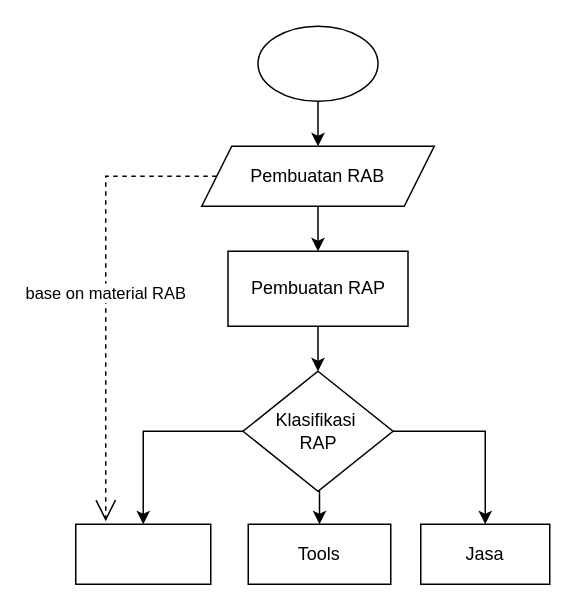
Some shapes in this 576 by 611 pixel diagram are drawn without their labels. The centre of each missing label's shape, as x and y in pixels:
"Material" belongs at [142,553].
"Order" belongs at [317,63].
